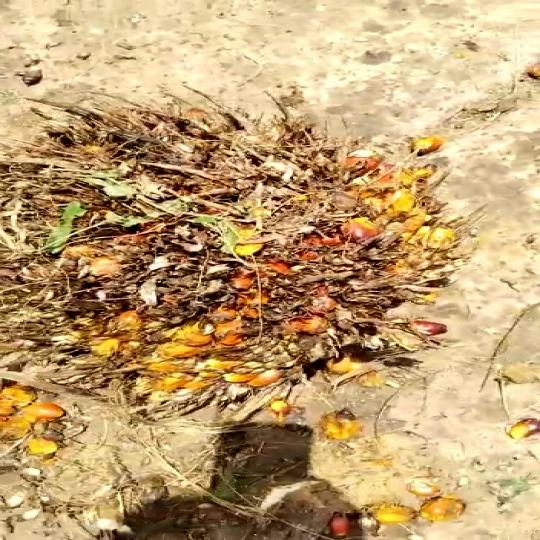terlalu masak: (0, 83, 493, 435)
